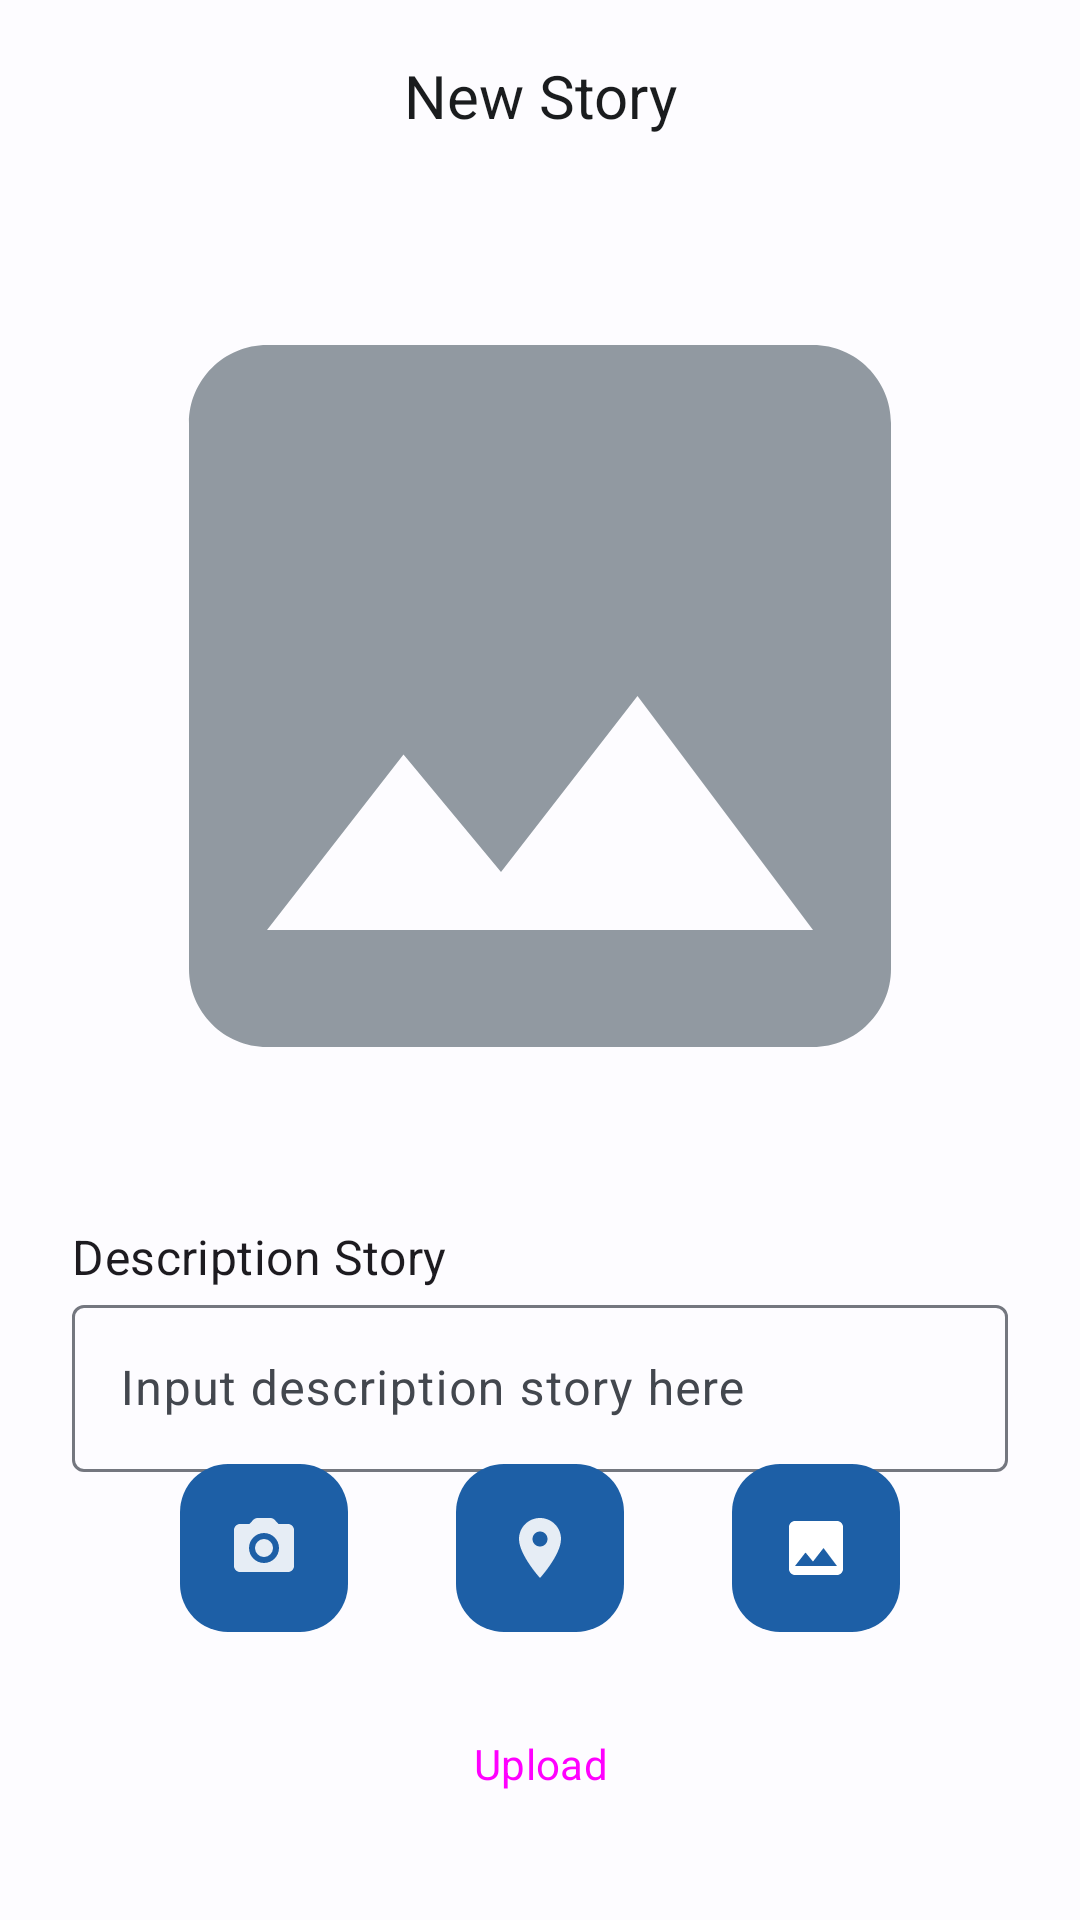

Icon bounding boxes for this 1080x1920 phone screenshot, format (x1,y1,x2,y2):
Gallery: (732,1464,900,1632)
Kamera: (180,1464,348,1632)
place: (456,1464,624,1632)
